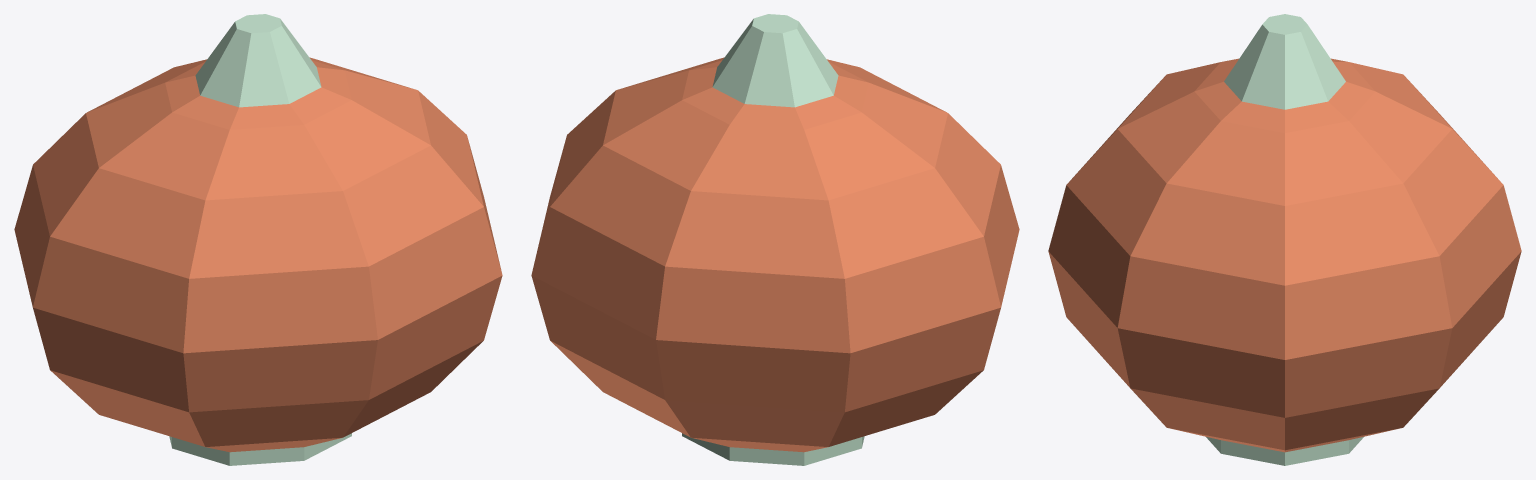
File: onion_idle.fbx
The picture shows the model from 3 angles, left to right: view 1: azimuth 30°, elevation 25°; view 2: azimuth 150°, elevation 25°; view 3: azimuth 270°, elevation 25°; orthographic projection.
Parts seen in each view (by area): view 1: Onion; view 2: Onion; view 3: Onion.
Boxes of the visible parts, x1,y1,x2,y2 form: Onion: (14,14,502,465); Onion: (531,14,1019,465); Onion: (1048,14,1521,465).
Bounding box in the file's own units: 402 × 352 × 369.
